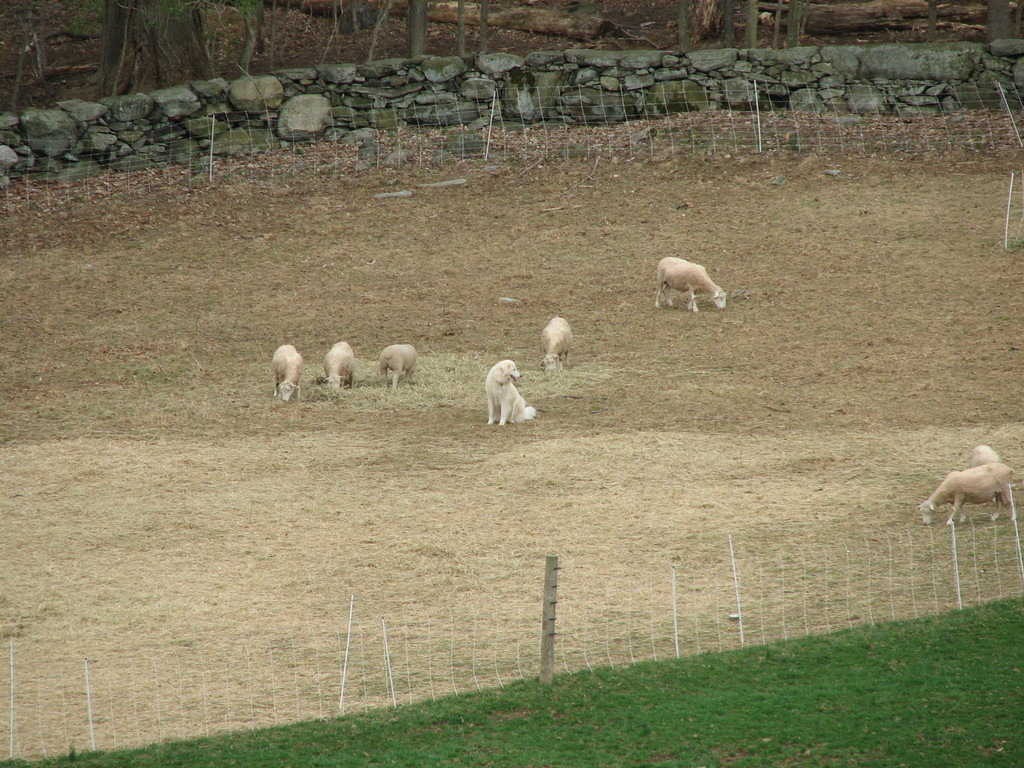sheep: (920, 463, 1019, 527), (654, 257, 727, 311), (539, 315, 572, 375), (270, 344, 303, 403), (323, 340, 355, 396), (379, 345, 419, 387)
